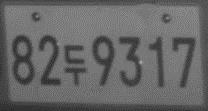1: (146, 36, 166, 88)
2: (37, 34, 62, 86)
3: (117, 35, 142, 87)
7: (171, 36, 197, 88)
8: (11, 34, 35, 85)
9: (92, 35, 115, 87)
두: (63, 43, 87, 86)
